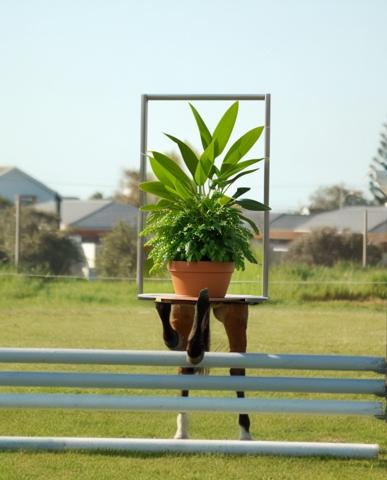horse: (153, 128, 252, 441)
pottedplant: (140, 94, 270, 304)
